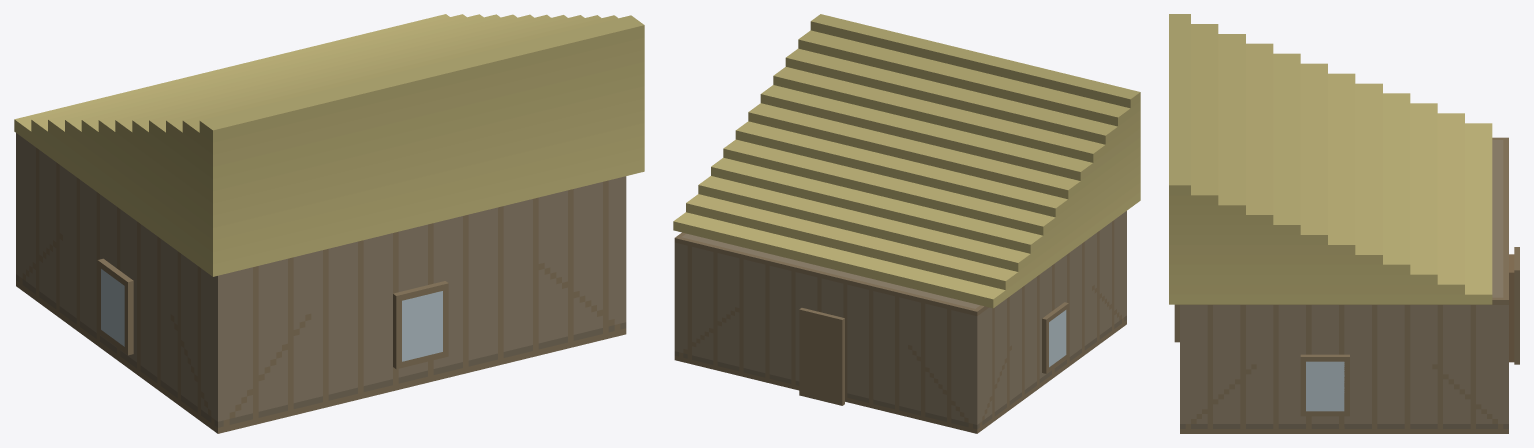
The model's file is casa_humilde_02.glb.
The picture shows the model from 3 angles, left to right: view 1: azimuth 30°, elevation 25°; view 2: azimuth 150°, elevation 25°; view 3: azimuth 270°, elevation 25°; orthographic projection. The views are drawn at different scales.
Visible parts, largest first — view 1: casa_humilde_02; view 2: casa_humilde_02; view 3: casa_humilde_02.
Part boxes in pixels (<box>): casa_humilde_02: <box>14,14,644,433</box>; casa_humilde_02: <box>673,14,1140,433</box>; casa_humilde_02: <box>1169,14,1519,433</box>.
Bounding box in the file's own units: 7.4 × 5.1 × 6.4.
